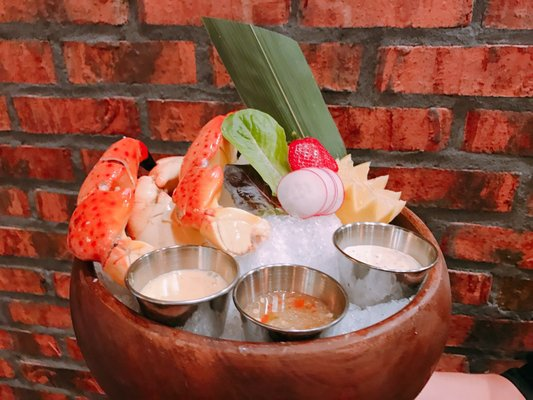sushi: (125, 244, 239, 329), (233, 264, 349, 342)
